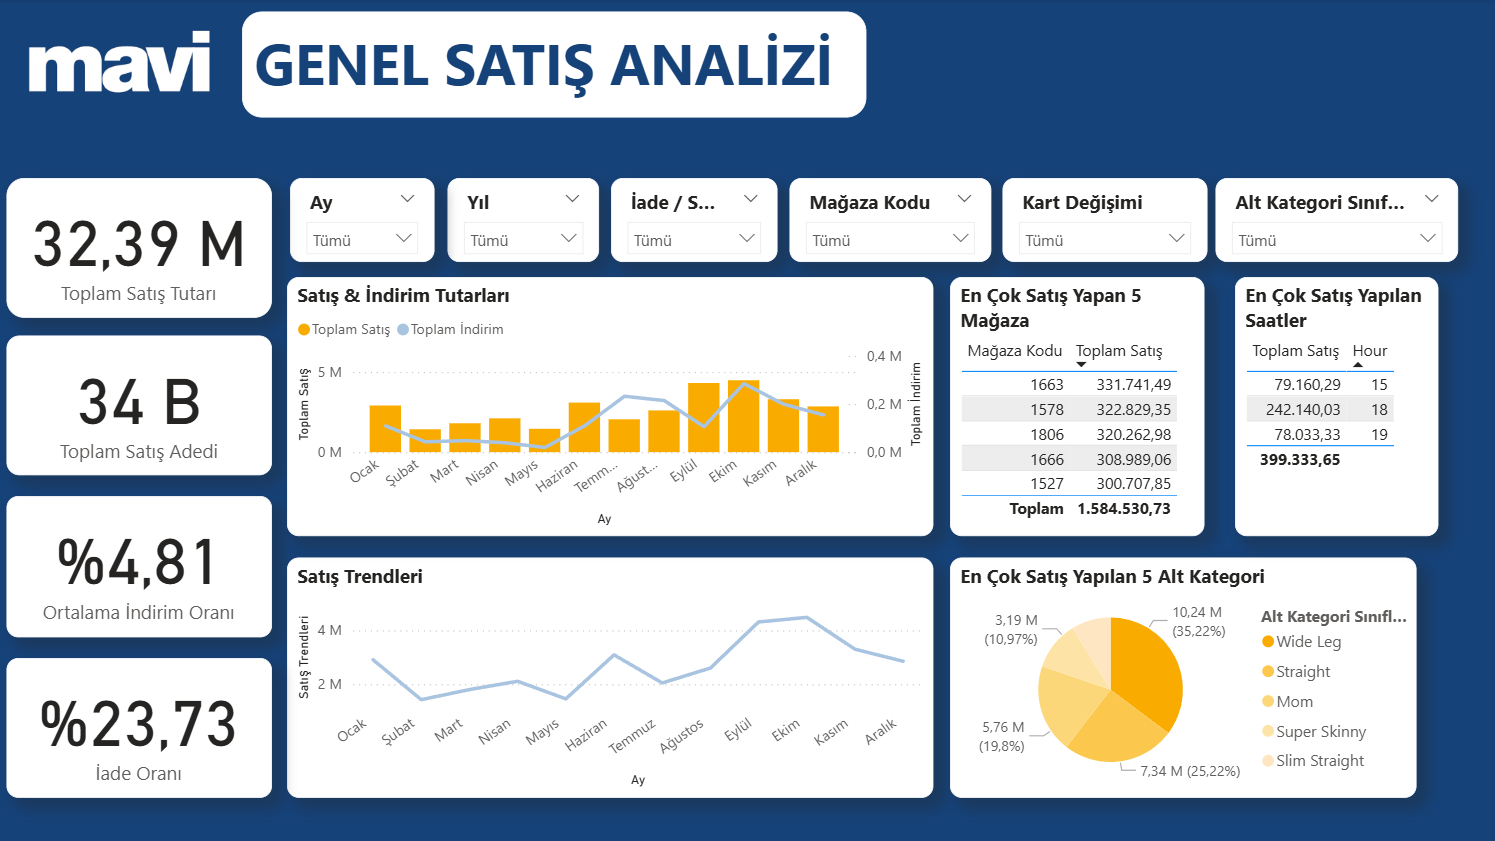

The page's visual inventory and layout, read from the dashboard file:
{"tool":"powerbi","page":{"name":"1. sayfa","canvas":[1280,720],"ordinal":0},"visuals":[{"type":"slicer","fields":{"Values":["Sales.Date.Varyasyon.Tarih Hiyerarşisi.Yıl"]},"box":[383.8,152.5,128.8,71.2],"z":0},{"type":"slicer","fields":{"Values":["Sales.Date.Varyasyon.Tarih Hiyerarşisi.Ay"]},"box":[249.2,152.9,122.5,71.2],"z":1000},{"type":"card","fields":{"Values":["Sum(Sales.Amount)"]},"box":[8.8,152.5,225,118.8],"z":2000},{"type":"slicer","fields":{"Values":["Sales.ReturnFlag"]},"box":[522.5,152.5,141.2,71.2],"z":3000},{"type":"card","fields":{"Values":["Sales.Avg Discount Rate"]},"box":[8.8,422.5,225,120],"z":4000},{"type":"slicer","fields":{"Values":["Sales.StoreCode"]},"box":[674.2,152.9,171.2,71.2],"z":5000},{"type":"slicer","fields":{"Values":["Sales.ChangeCardFlag"]},"box":[854.2,152.9,173.8,71.2],"z":6000},{"type":"card","fields":{"Values":["Sum(Sales.Quantity)"]},"box":[8.8,286.2,225,118.8],"z":7000},{"type":"slicer","fields":{"Values":["Products.SubCategoryClass"]},"box":[1035,152.5,206.2,71.2],"z":8000},{"type":"lineChart","title":"Satış Trendleri","fields":{"Category":["Sales.Date.Varyasyon.Tarih Hiyerarşisi.Ay"],"Y":["Sum(Sales.Amount)"]},"box":[247.5,475,548.8,203.8],"z":9000},{"type":"lineClusteredColumnComboChart","title":"Satış & İndirim Tutarları","fields":{"Category":["Sales.Date.Varyasyon.Tarih Hiyerarşisi.Ay"],"Y":["Sum(Sales.Amount)"],"Y2":["Sum(Sales.DiscountAmount)"]},"box":[247.5,236.2,548.8,220],"z":10000},{"type":"tableEx","title":"En Çok Satış Yapan 5 Mağaza","fields":{"Values":["Sales.StoreCode","Sum(Sales.Amount)"]},"box":[810,236.2,216.2,220],"z":11000},{"type":"pieChart","title":"En Çok Satış Yapılan 5 Alt Kategori","fields":{"Category":["Products.SubCategoryClassEN"],"Y":["Sum(Sales.Amount)"]},"box":[810,475,396.2,203.8],"z":12000},{"type":"tableEx","title":"En Çok Satış Yapılan Saatler","fields":{"Values":["Sum(Sales.Amount)","Sales.Hour"]},"box":[1051.2,236.2,172.5,220],"z":13000},{"type":"textbox","box":[208.8,11.2,530,90],"z":14000},{"type":"card","fields":{"Values":["Sales.Return Rate"]},"box":[8.8,560,225,118.8],"z":15000},{"type":"image","box":[0,0,208.8,117.5],"z":16000}]}

Visuals, with their boxes in screenshot pixels (x1, y1, x2, y2), scaled from the page's 1280x720 canvas onto the 1495x841 screenshot:
slicer - Sales.Date.Varyasyon.Tarih Hiyerarşisi.Yıl: 448 178 599 261
slicer - Sales.Date.Varyasyon.Tarih Hiyerarşisi.Ay: 291 179 434 262
card - Sum(Sales.Amount): 10 178 273 317
slicer - Sales.ReturnFlag: 610 178 775 261
card - Sales.Avg Discount Rate: 10 494 273 634
slicer - Sales.StoreCode: 787 179 987 262
slicer - Sales.ChangeCardFlag: 998 179 1201 262
card - Sum(Sales.Quantity): 10 334 273 473
slicer - Products.SubCategoryClass: 1209 178 1450 261
"Satış Trendleri" lineChart: 289 555 930 793
"Satış & İndirim Tutarları" lineClusteredColumnComboChart: 289 276 930 533
"En Çok Satış Yapan 5 Mağaza" tableEx: 946 276 1199 533
"En Çok Satış Yapılan 5 Alt Kategori" pieChart: 946 555 1409 793
"En Çok Satış Yapılan Saatler" tableEx: 1228 276 1429 533
textbox: 244 13 863 118
card - Sales.Return Rate: 10 654 273 793
image: 0 0 244 137
